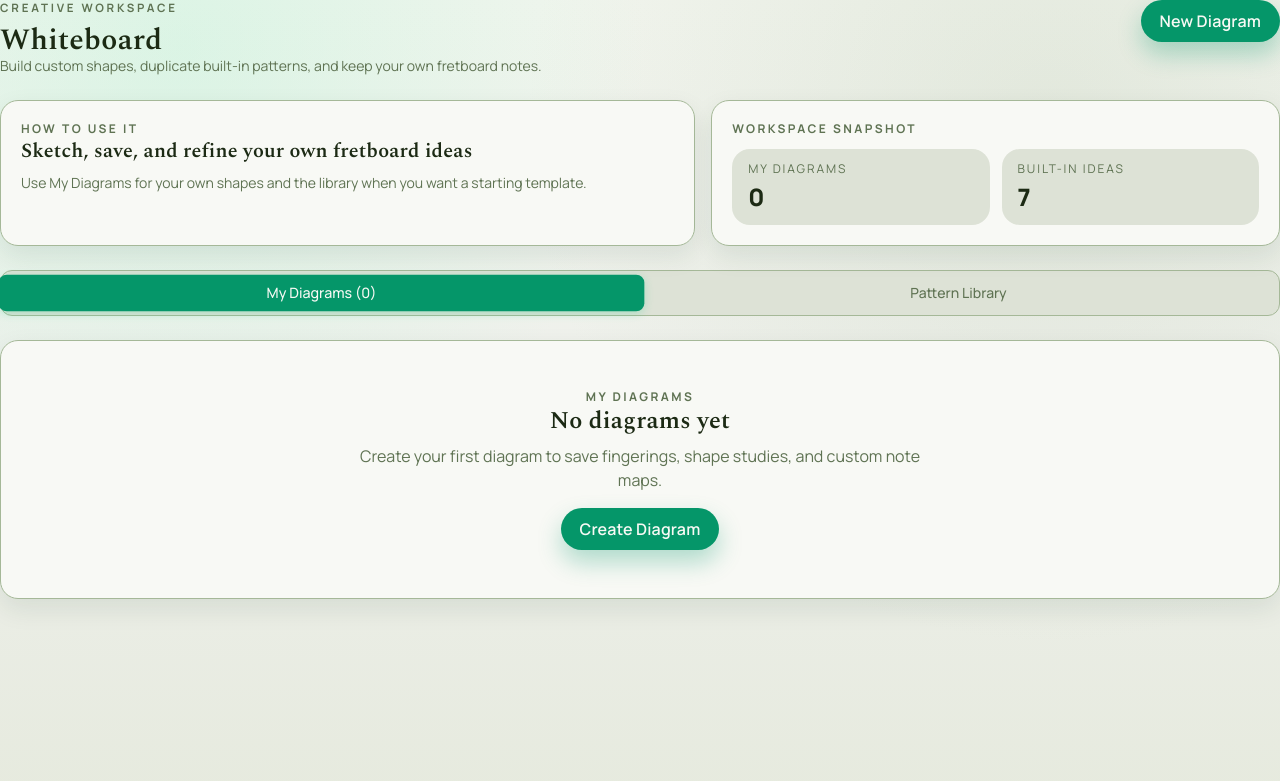
Scenario: WhiteboardPage › switches to Pattern Library tab
Step 1. Click the button "Pattern Library" → x=958, y=294, box [642, 276, 1275, 312]
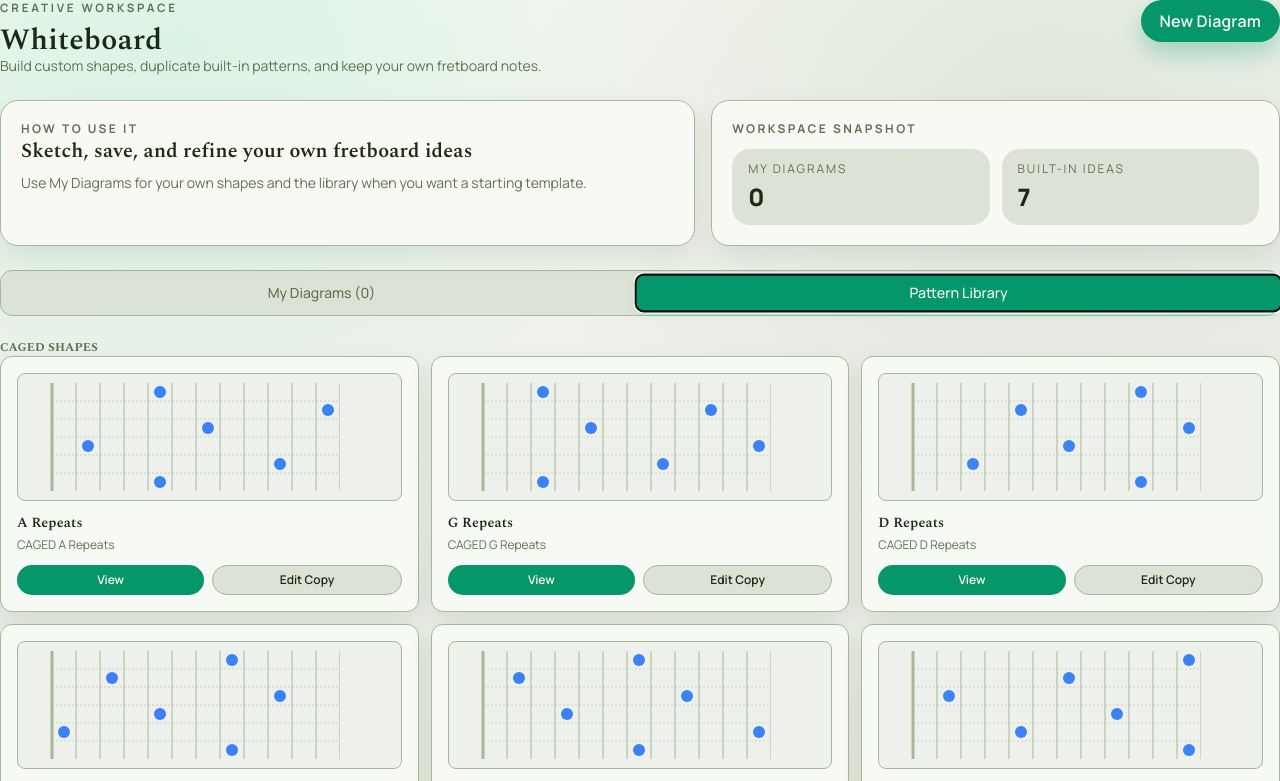
Result: the heading "CAGED Shapes" is shown at [0, 338, 98, 358]
